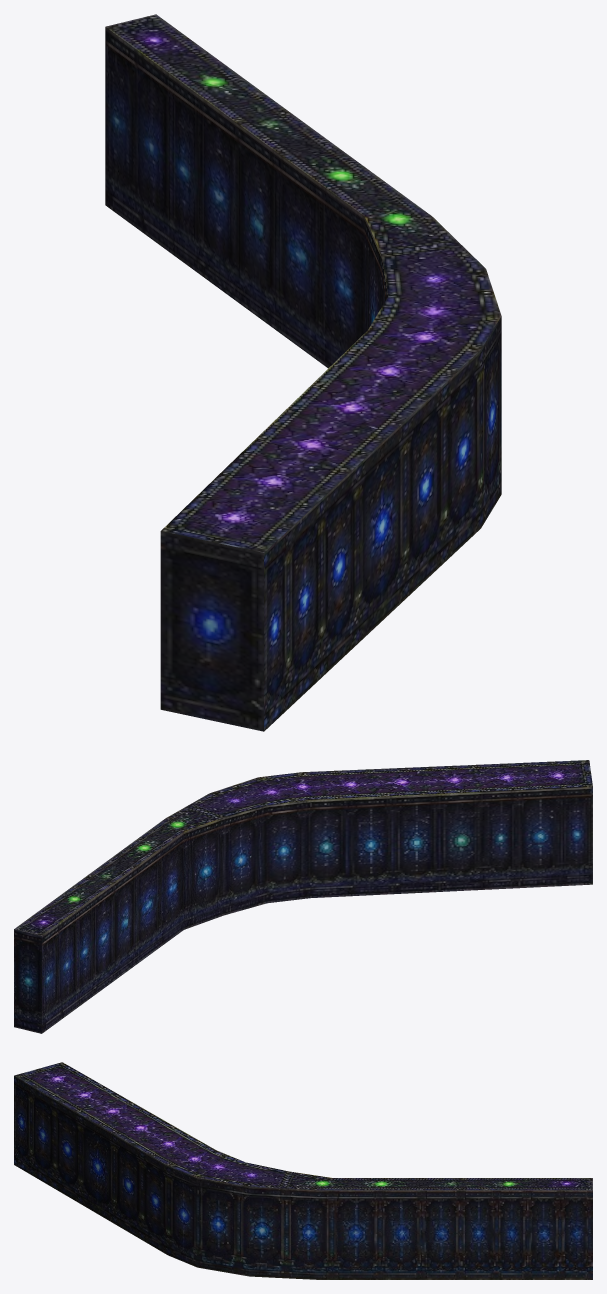
Rendered from ramp_pale_down_right_lvl_4.glb.
3 renders of one model, top to bottom at view 1: azimuth 30°, elevation 25°; view 2: azimuth 150°, elevation 25°; view 3: azimuth 270°, elevation 25°, orthographic. The views are drawn at different scales.
Visible parts, largest first — view 1: Mesh_0.001; view 2: Mesh_0.001; view 3: Mesh_0.001.
Boxes of the visible parts, x1,y1,x2,y2 form: Mesh_0.001: [105, 14, 501, 731]; Mesh_0.001: [14, 760, 592, 1033]; Mesh_0.001: [14, 1062, 592, 1279].
Bounding box in the file's own units: 0.1284 × 0.0417 × 0.2447.
Materials: 1 (1 with a texture image).
